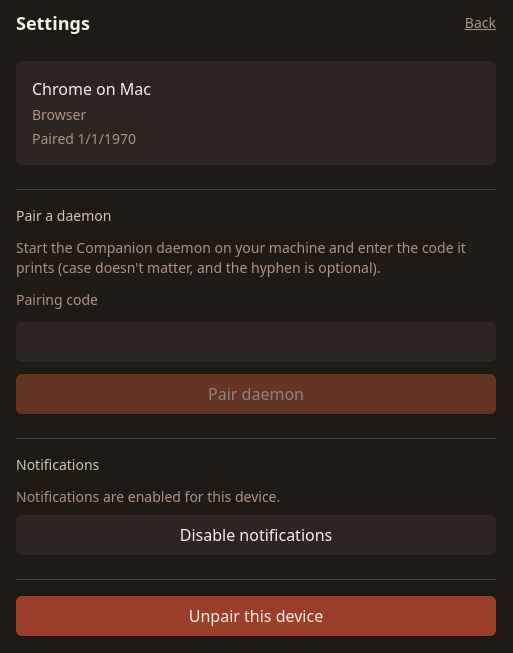
Test: SettingsScreen › notifications section › disables push notifications and shows the Enable button after clicking Disable
This screenshot has width=513, height=653.
Click the button "Disable notifications".
click(256, 535)  # box x1=16 y1=515 x2=496 y2=555
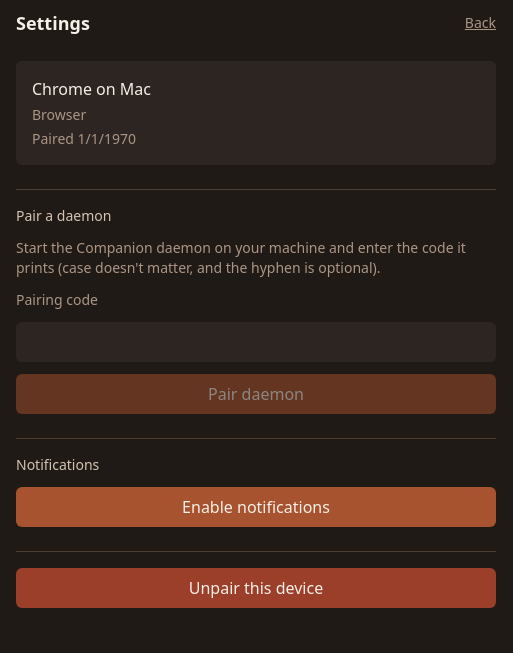
Result: the button "Enable notifications" is shown at x1=16 y1=487 x2=496 y2=527
